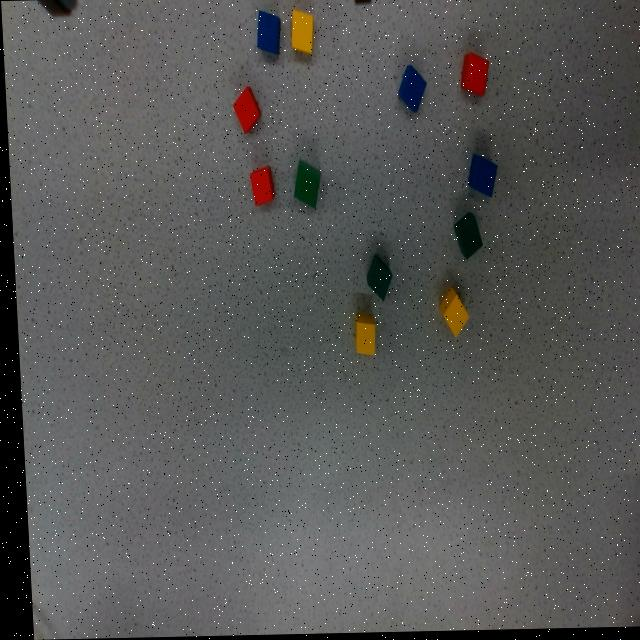blue_cube: (390, 66, 430, 114), (461, 155, 497, 199), (255, 12, 280, 59)
green_cube: (356, 255, 394, 302), (449, 213, 482, 261), (291, 161, 319, 209)
red_cube: (225, 86, 265, 135), (458, 54, 488, 98), (244, 166, 274, 206)
yellow_cube: (430, 290, 470, 337), (289, 11, 313, 55), (351, 316, 371, 356)
